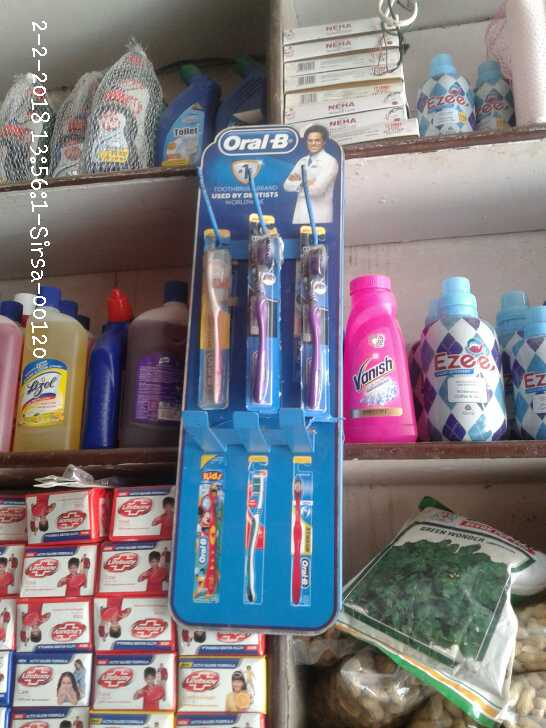oralb: (290, 256, 337, 424), (237, 237, 281, 402), (199, 233, 228, 411)
